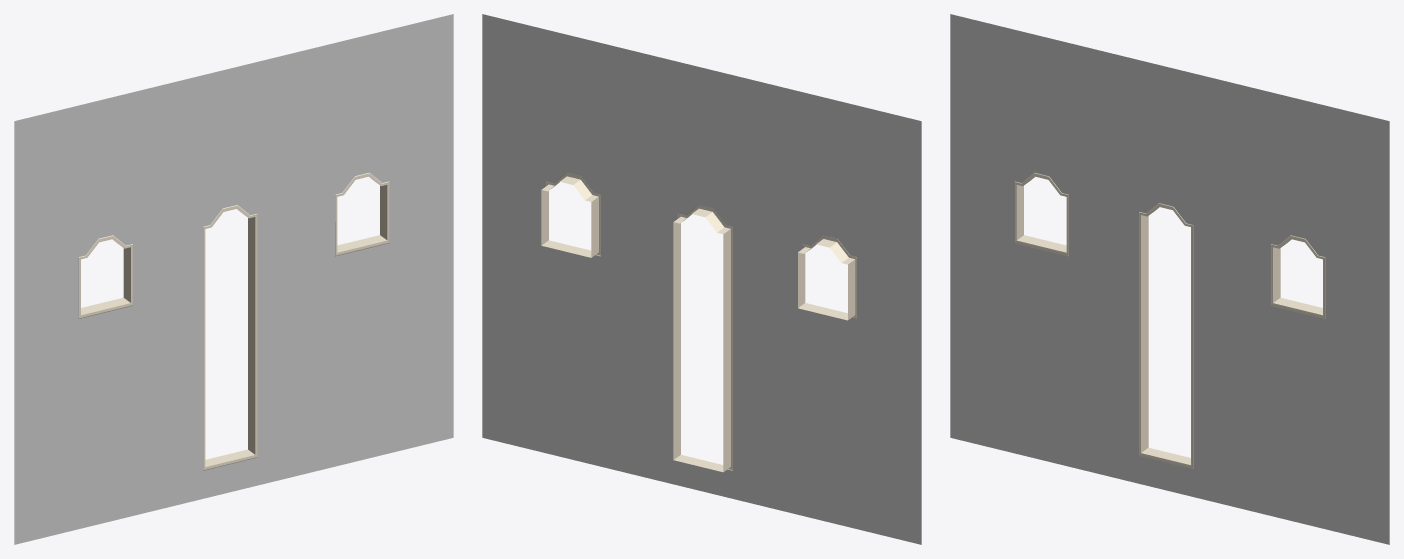
3 renders of one model, left to right at view 1: azimuth 30°, elevation 25°; view 2: azimuth 150°, elevation 25°; view 3: azimuth 330°, elevation 25°, orthographic.
Visible parts, largest first — view 1: Wall; view 2: Wall; view 3: Wall.
Part boxes in pixels (x1,y1,x2,y2): Wall: (14, 14, 453, 544); Wall: (482, 14, 921, 544); Wall: (950, 14, 1389, 544).
Bounding box in the file's own units: 10 × 9.21 × 0.2966.
